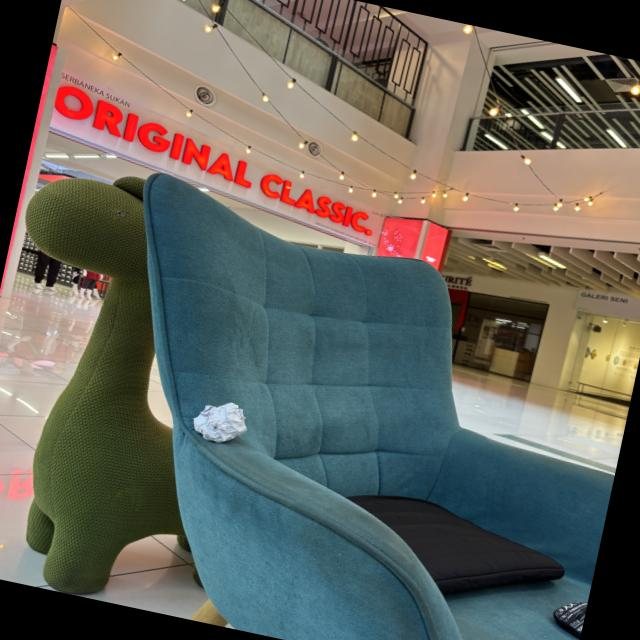crumpled_paper: (188, 393, 253, 450)
